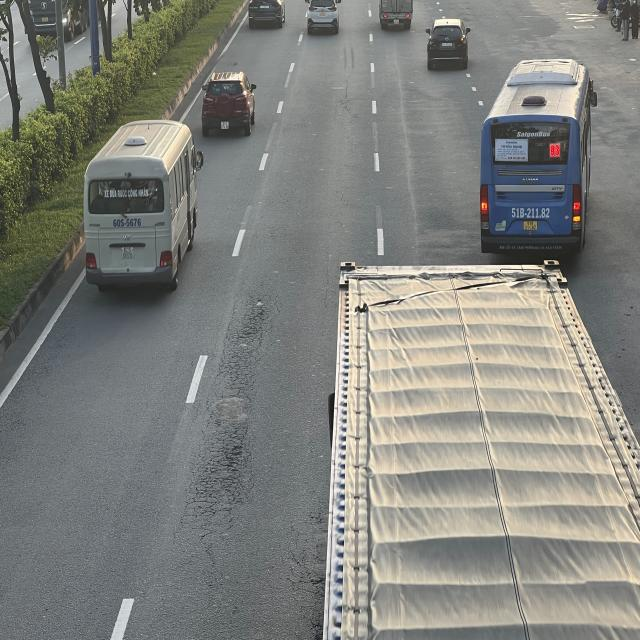car: (200, 74, 256, 137), (424, 15, 469, 68), (304, 0, 342, 33), (249, 0, 289, 28)
coach: (481, 60, 598, 254), (86, 115, 206, 290)
container: (320, 260, 640, 640)
